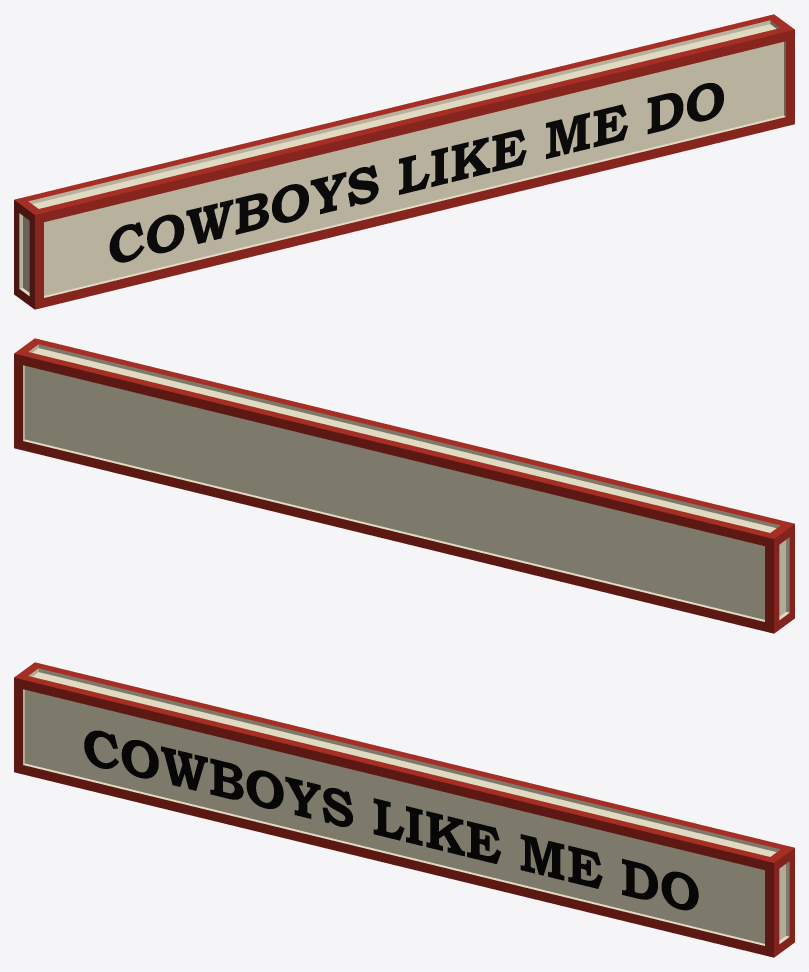
File: cowboysLikeMeDo.glb
3 views of the same model, one above another, from view 1: azimuth 30°, elevation 25°; view 2: azimuth 150°, elevation 25°; view 3: azimuth 330°, elevation 25° (orthographic).
Parts seen in each view (by area): view 1: ButtonBase, ButtonText; view 2: ButtonBase; view 3: ButtonBase, ButtonText.
Part boxes in pixels (x1,y1,x2,y2): ButtonBase: [14, 14, 794, 309]; ButtonText: [109, 83, 723, 262]; ButtonBase: [14, 338, 794, 633]; ButtonBase: [14, 662, 794, 957]; ButtonText: [84, 730, 698, 910].
Size of the model in its own units: 10.5 by 1.25 by 0.5538.
